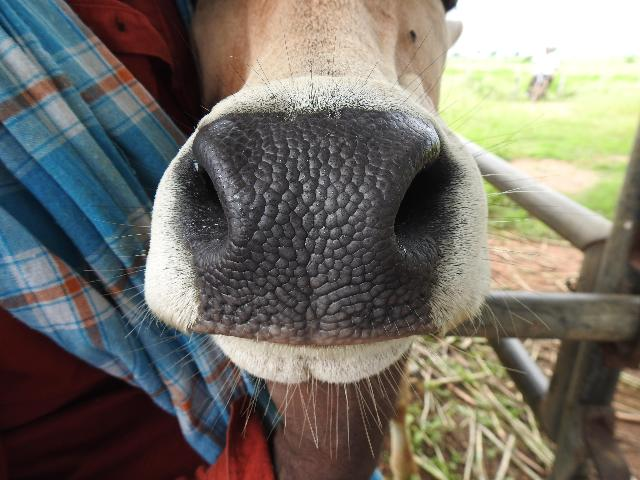Muzzle: (212, 125, 396, 325)
